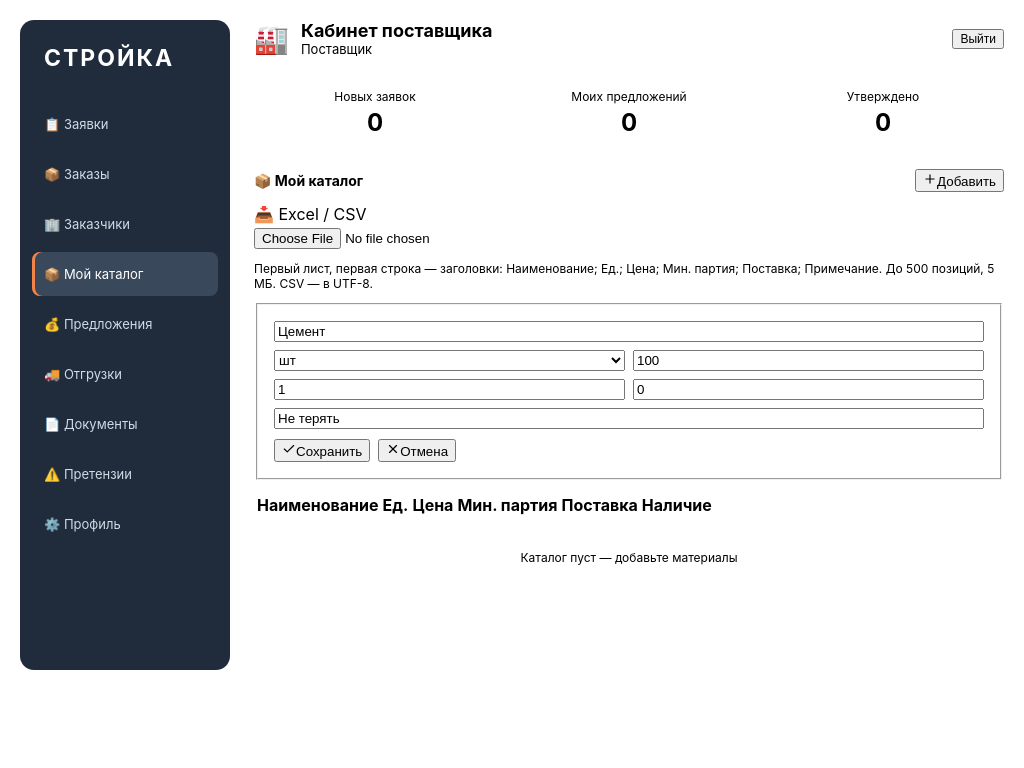
Test: confirmed save uses normalized numbers, displays stock and closes the draft
The image size is (1024, 768).
Click the button "Сохранить" at (322, 450), box x1=274 y1=439 x2=370 y2=462
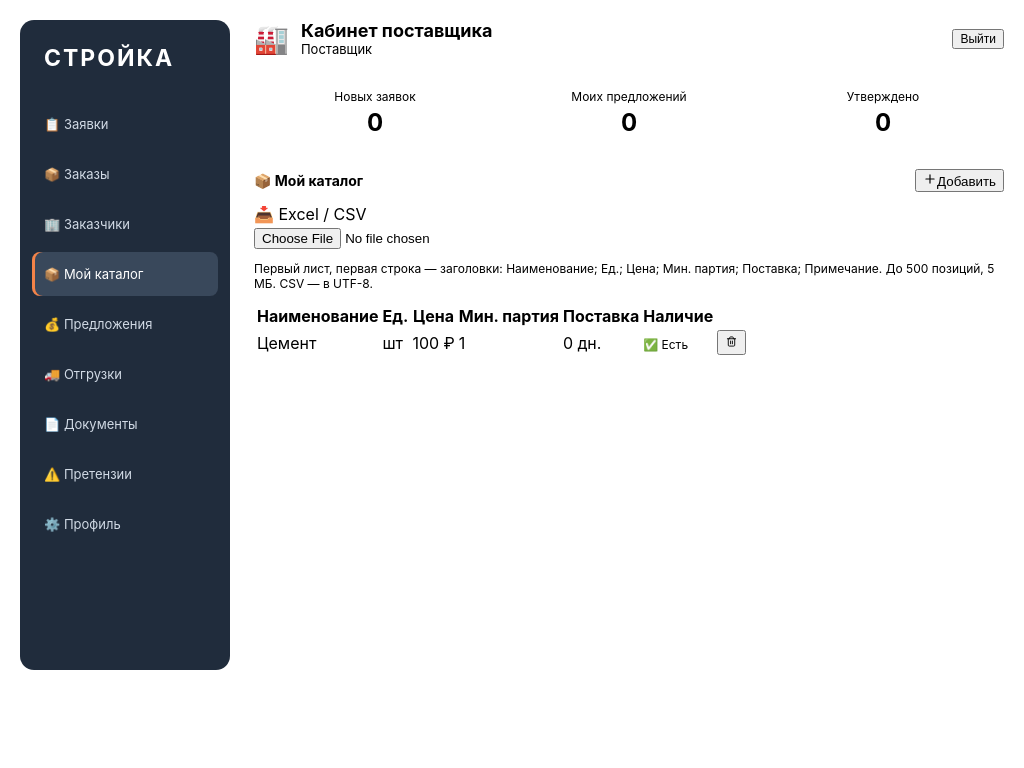
Expected: the field showing "Не терять" is not shown
Expected: the cell "Цемент" is shown, x1=256 y1=329 x2=379 y2=356
Expected: the cell "✅ Есть" is shown, x1=642 y1=329 x2=714 y2=356
